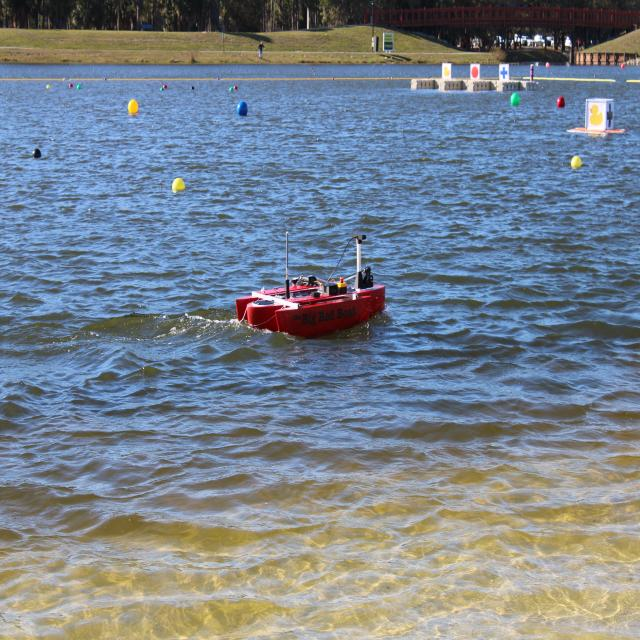black-buoy: (34, 146, 42, 158)
blue-buoy: (236, 97, 247, 116)
blue-cross: (499, 64, 508, 81)
green-buoy: (512, 93, 522, 107)
red-buoy: (558, 97, 566, 109)
red-dot: (471, 66, 478, 78)
yellow-buoy: (169, 178, 183, 194), (129, 97, 140, 114), (570, 158, 582, 172)
yellow-duck: (588, 101, 604, 130), (443, 62, 451, 81)
